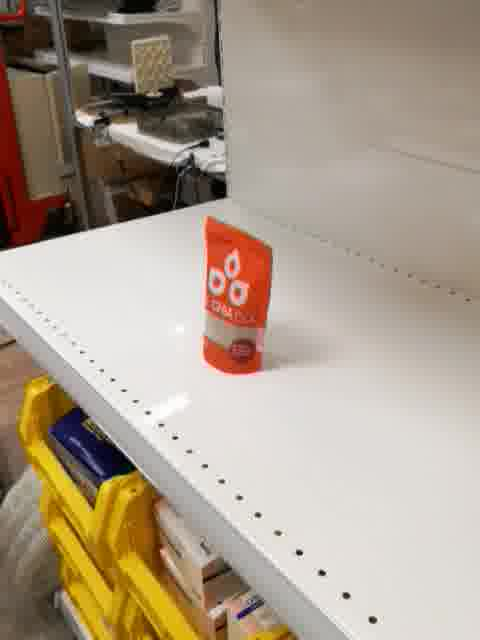whitechia: (201, 213, 274, 377)
